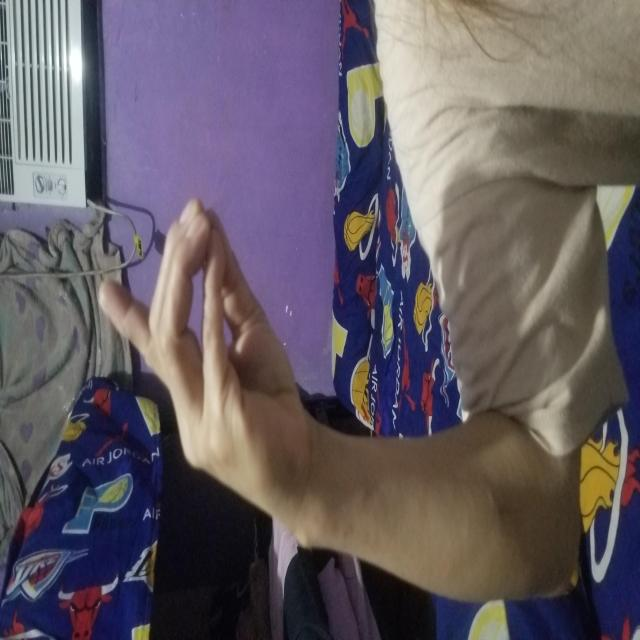D: (130, 100, 445, 302)
